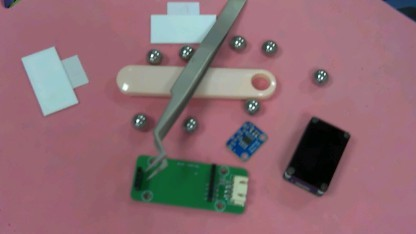ironball: (126, 110, 150, 133), (258, 35, 279, 58), (180, 113, 200, 135), (228, 32, 248, 54), (176, 41, 195, 63), (143, 47, 163, 67), (310, 65, 330, 84), (244, 95, 260, 115)
